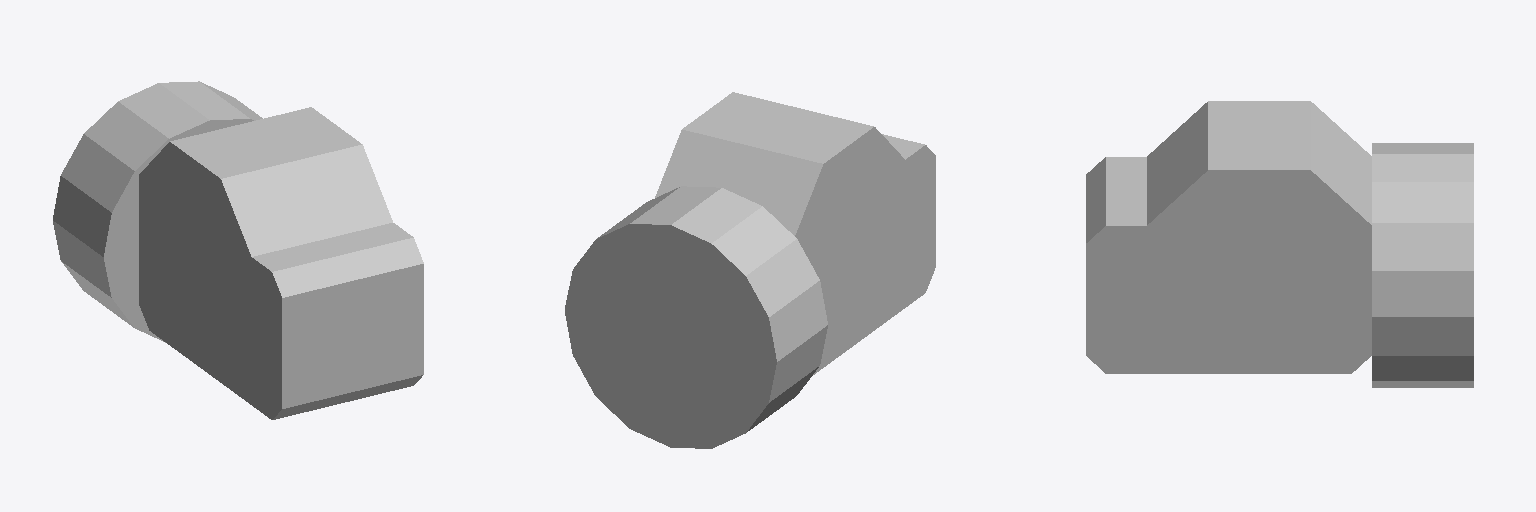
Rendered from BDD_Pan.obj.
3 renders of one model, left to right at view 1: azimuth 30°, elevation 25°; view 2: azimuth 150°, elevation 25°; view 3: azimuth 270°, elevation 25°, orthographic.
Parts seen in each view (by area): view 1: Line24, HeadPan; view 2: HeadPan, Line24; view 3: Line24, HeadPan.
Boxes of the visible parts, x1,y1,x2,y2 form: Line24: [139, 107, 423, 419]; HeadPan: [53, 81, 262, 342]; HeadPan: [565, 186, 827, 448]; Line24: [655, 92, 935, 374]; Line24: [1086, 101, 1371, 373]; HeadPan: [1372, 143, 1473, 387].
Bounding box in the file's own units: 0.12 × 0.13 × 0.19.